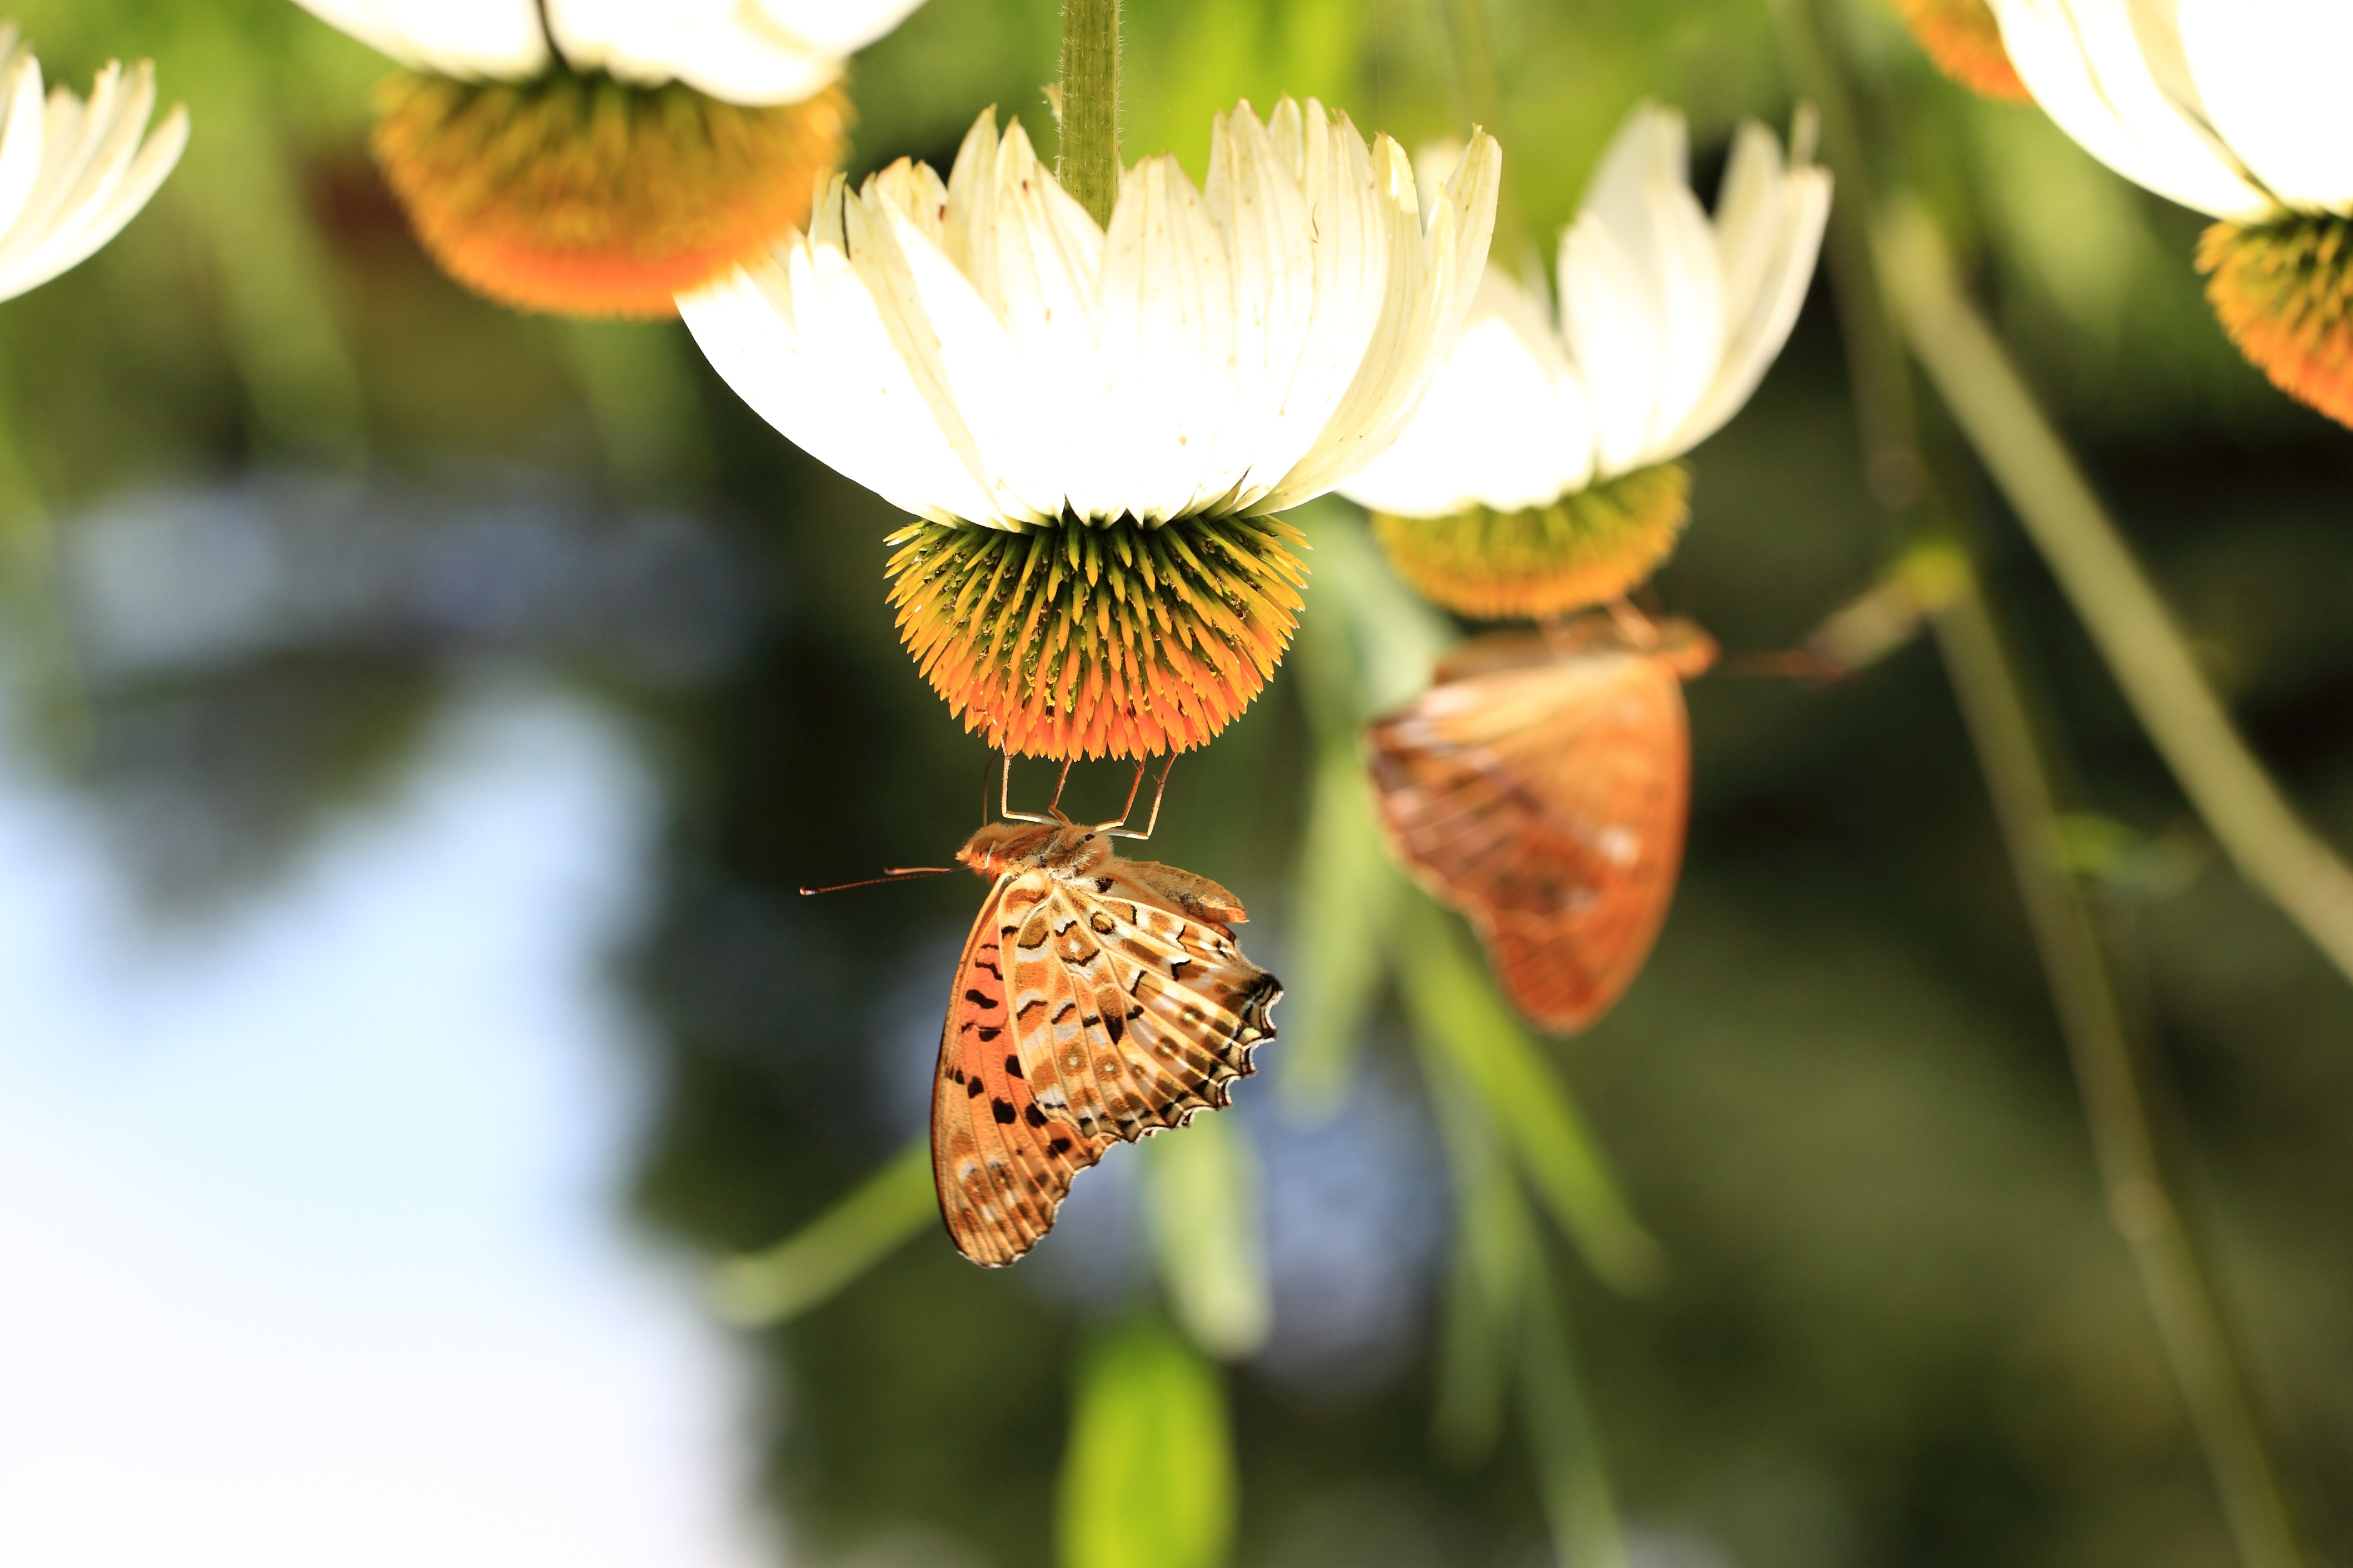Argyreus hyperbius: (788, 726, 1276, 1283)
butterfly: (790, 728, 1278, 1284)
